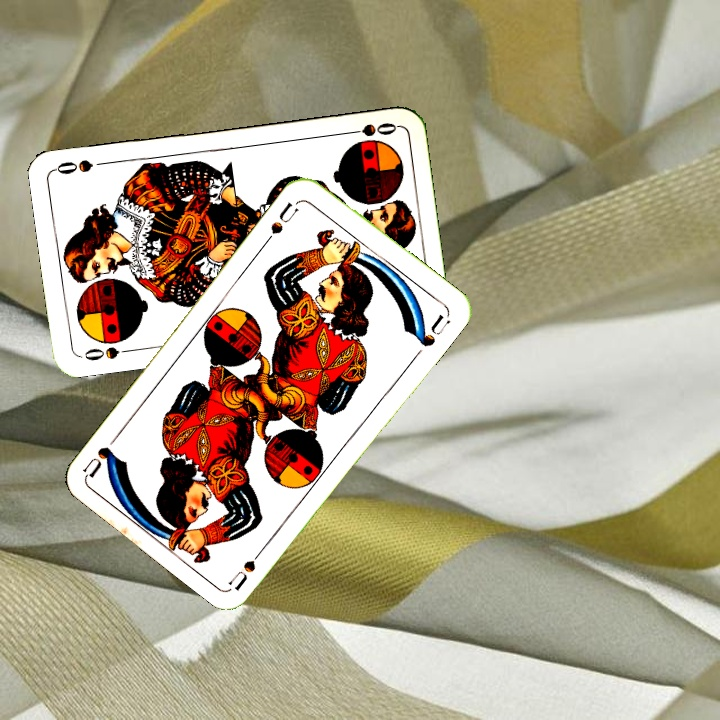SO: (340, 118, 399, 139), (77, 342, 136, 363)
SU: (225, 539, 270, 592), (260, 196, 303, 247)
